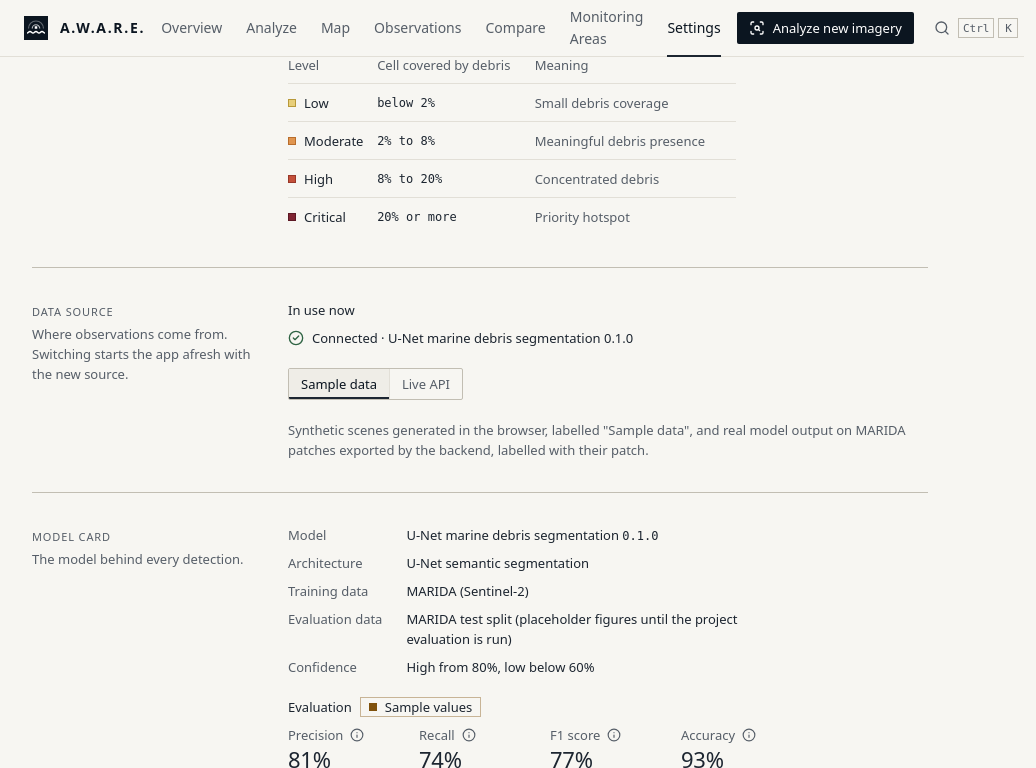
it: Settings page › tests the live service and switches only after it answers
(page scrolled)
Click the radio button labelled "Live API": {"x": 425, "y": 384} top-left (389, 369), bottom-right (462, 399)
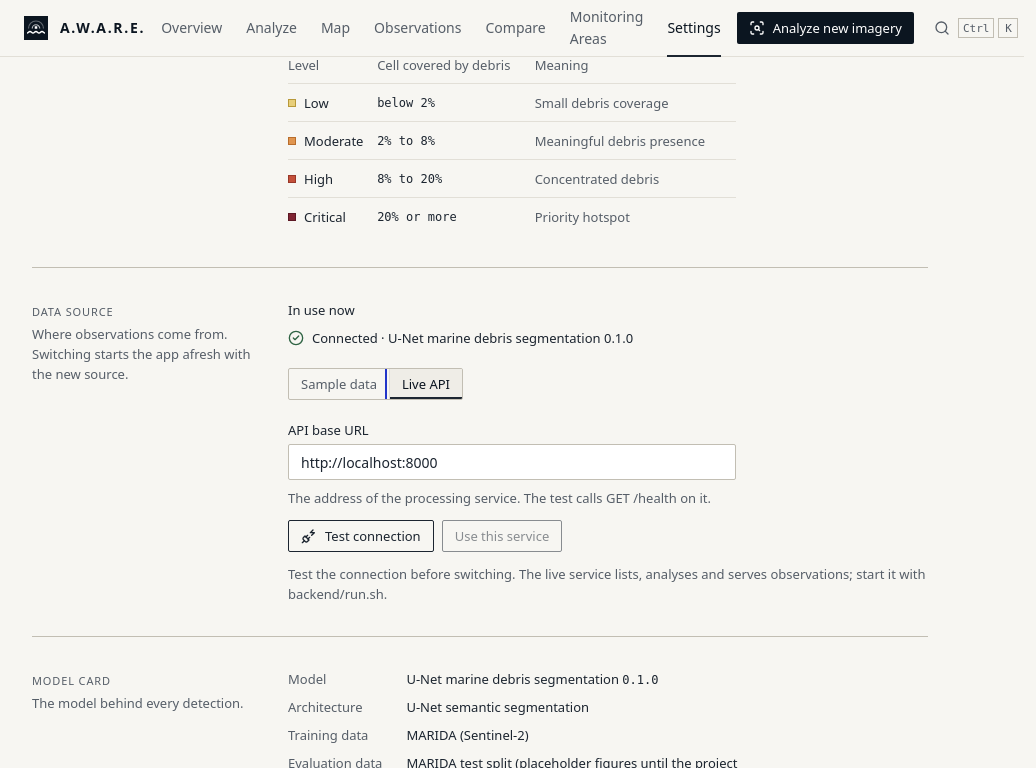
Expected: the button "Use this service" is disabled, top-left (442, 520), bottom-right (562, 552)
Click the button "Test connection": {"x": 361, "y": 536} top-left (288, 520), bottom-right (434, 552)
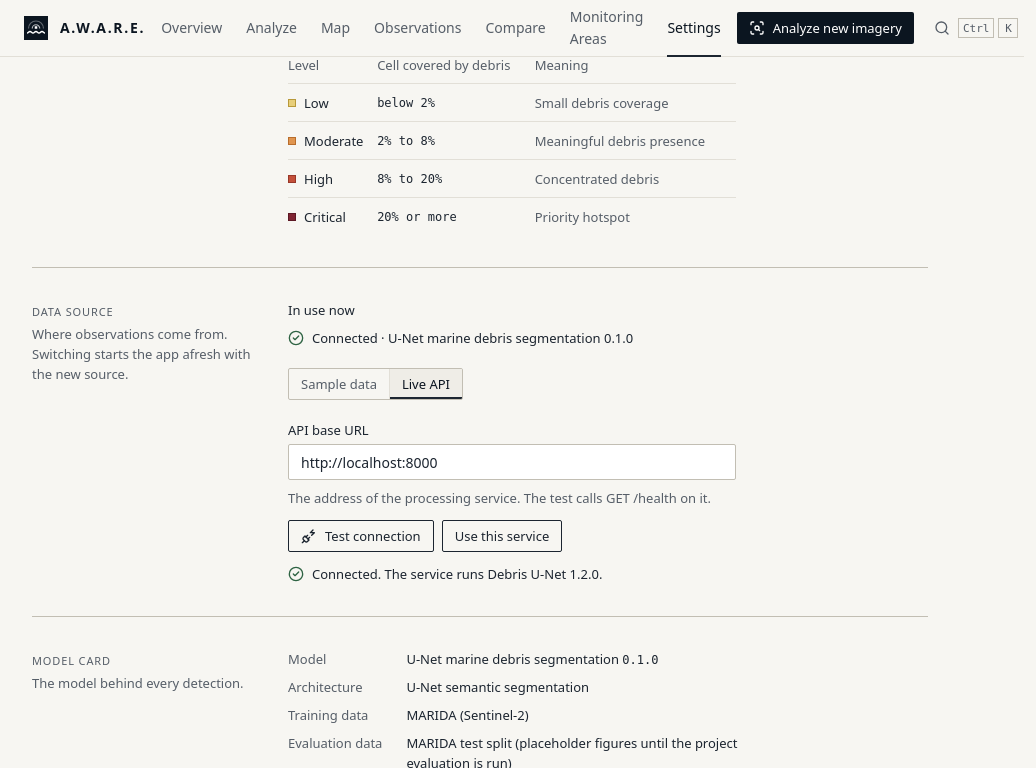
Expected: the text "Connected. The service runs Debris U-Net 1.2.0." is shown, top-left (288, 565), bottom-right (602, 583)
Click the button "Use this service": {"x": 502, "y": 536} top-left (442, 520), bottom-right (562, 552)
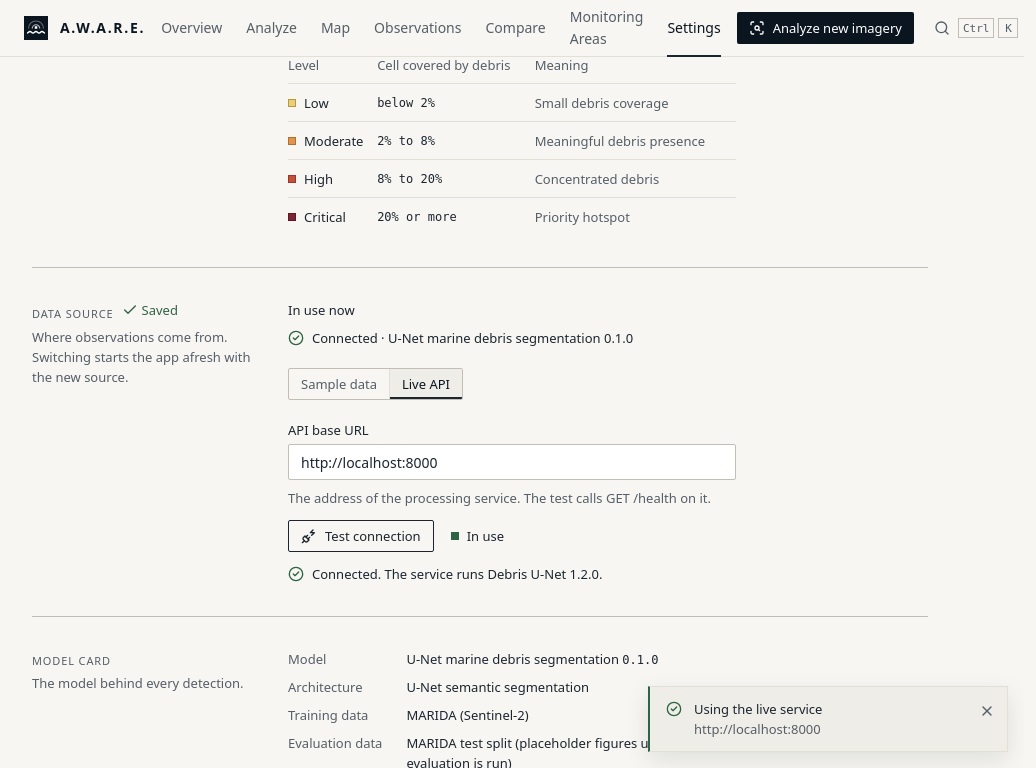
Expected: the text "Using the live service" is shown, top-left (694, 700), bottom-right (822, 718)
